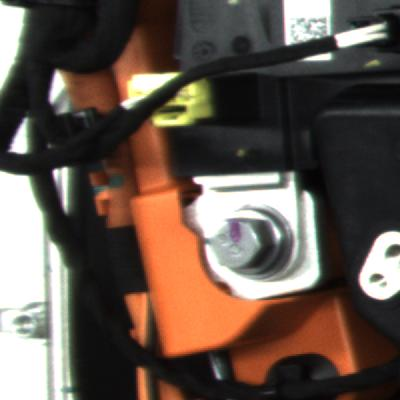nut_b: (208, 201, 305, 280)
